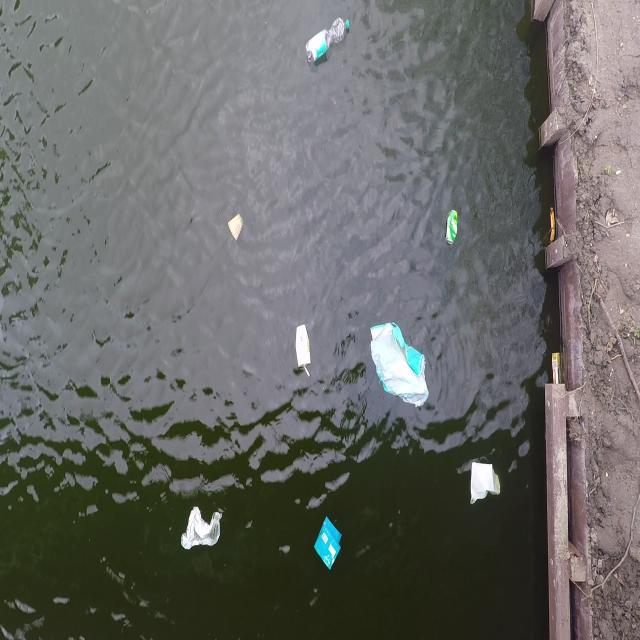Bouteille plastique: (299, 14, 354, 65)
Non plastique: (288, 317, 316, 380), (442, 202, 462, 251), (222, 208, 246, 245)
Sac plastique: (365, 314, 434, 419), (177, 502, 226, 558)
